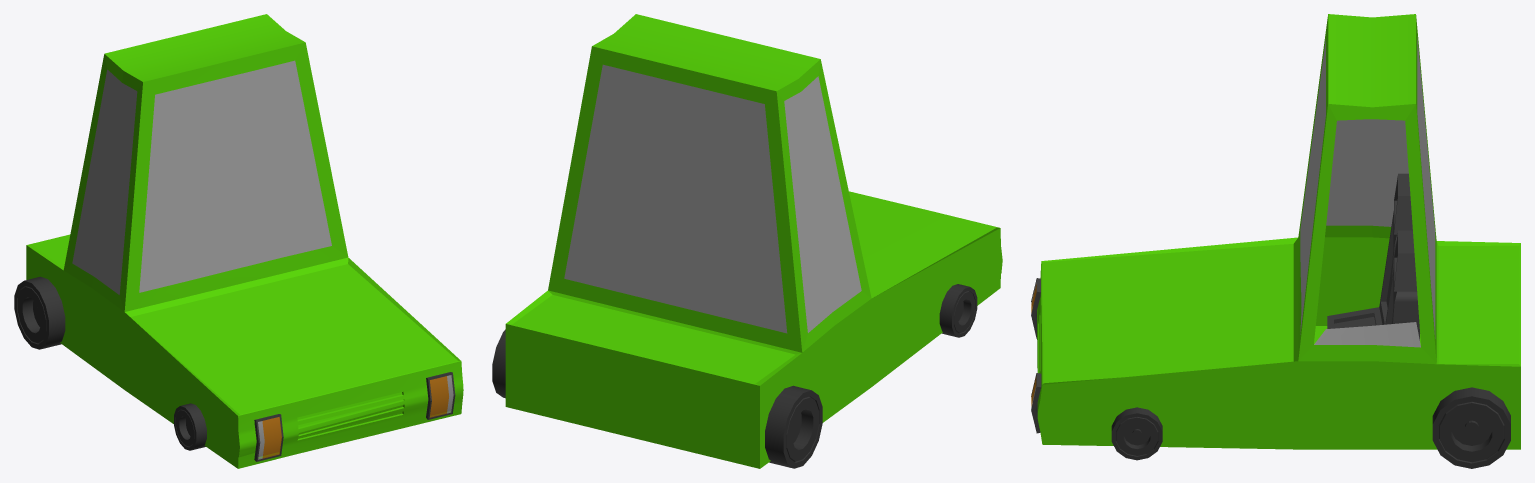
Rendered from Car.fbx.
The picture shows the model from 3 angles, left to right: view 1: azimuth 30°, elevation 25°; view 2: azimuth 150°, elevation 25°; view 3: azimuth 270°, elevation 25°; orthographic projection. The views are drawn at different scales.
Visible parts, largest first — view 1: pCube4; view 2: pCube4; view 3: pCube4.
Boxes of the visible parts, box(x1,y1,x2,y2) form: pCube4: box(14, 14, 463, 468); pCube4: box(492, 14, 1002, 468); pCube4: box(1031, 14, 1520, 468).
Size of the model in its own units: 10.31 by 11.53 by 15.06.
